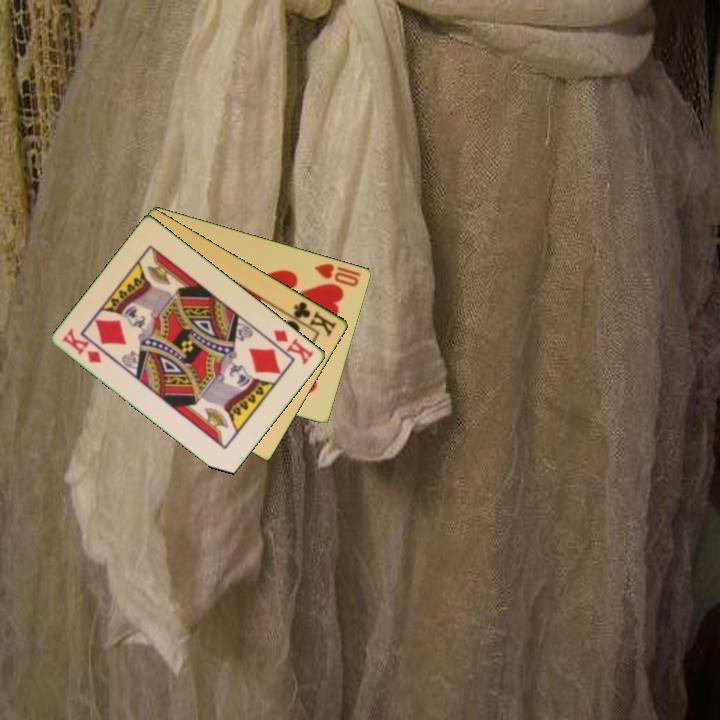10h: (311, 259, 364, 289)
Kc: (284, 298, 340, 339)
Kd: (270, 326, 317, 367), (59, 325, 105, 366)
